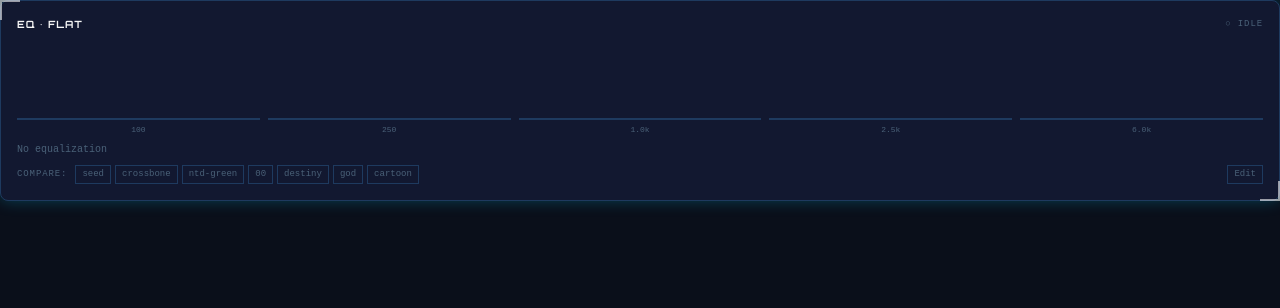
CockpitEqCard A/B compare (Sprint 62 A-A3) › Reset button restores the preset's default gains
Click the button with test id "eq-edit-toggle": (1245, 174) [1227,164,1263,184]
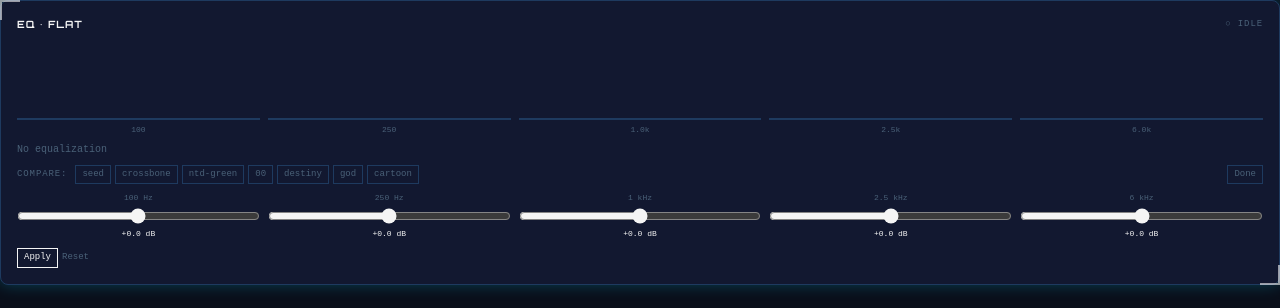
Edit band 0 to something wild
Set the slider with test id "eq-editor-band-0" to "10": (233, 216) [17,208,260,224]
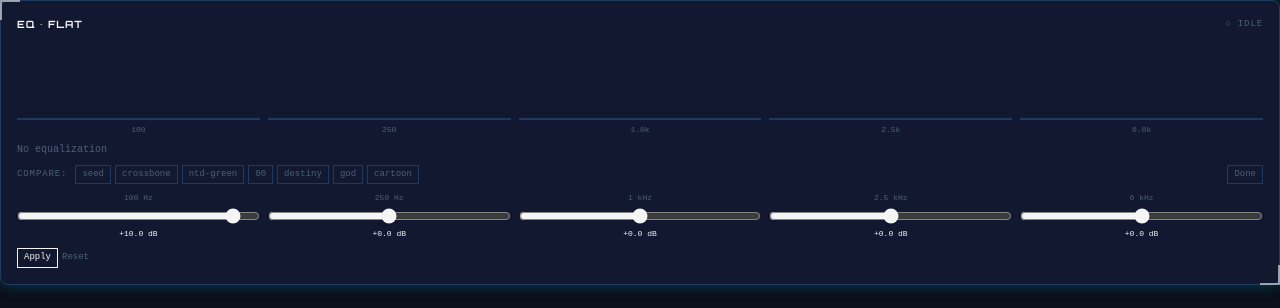
Result: the text with test id "eq-editor-band-0-readout" reads "+10.0 dB" at [119,228,158,240]
Click the button with test id "eq-editor-reset": (76, 258) [62,251,89,264]
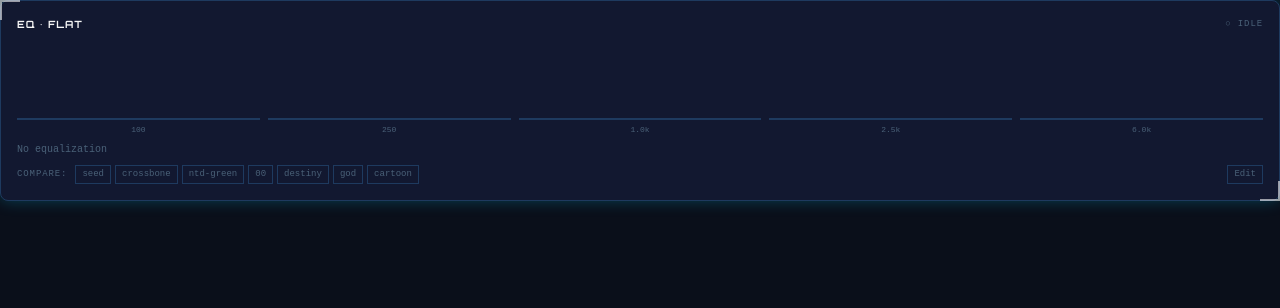
Expected: the button with test id "eq-edit-toggle" is shown, [1227,164,1263,184]
Result: the element with test id "eq-editor-actions" is gone
Result: the text with test id "eq-editor-band-0-readout" is gone
